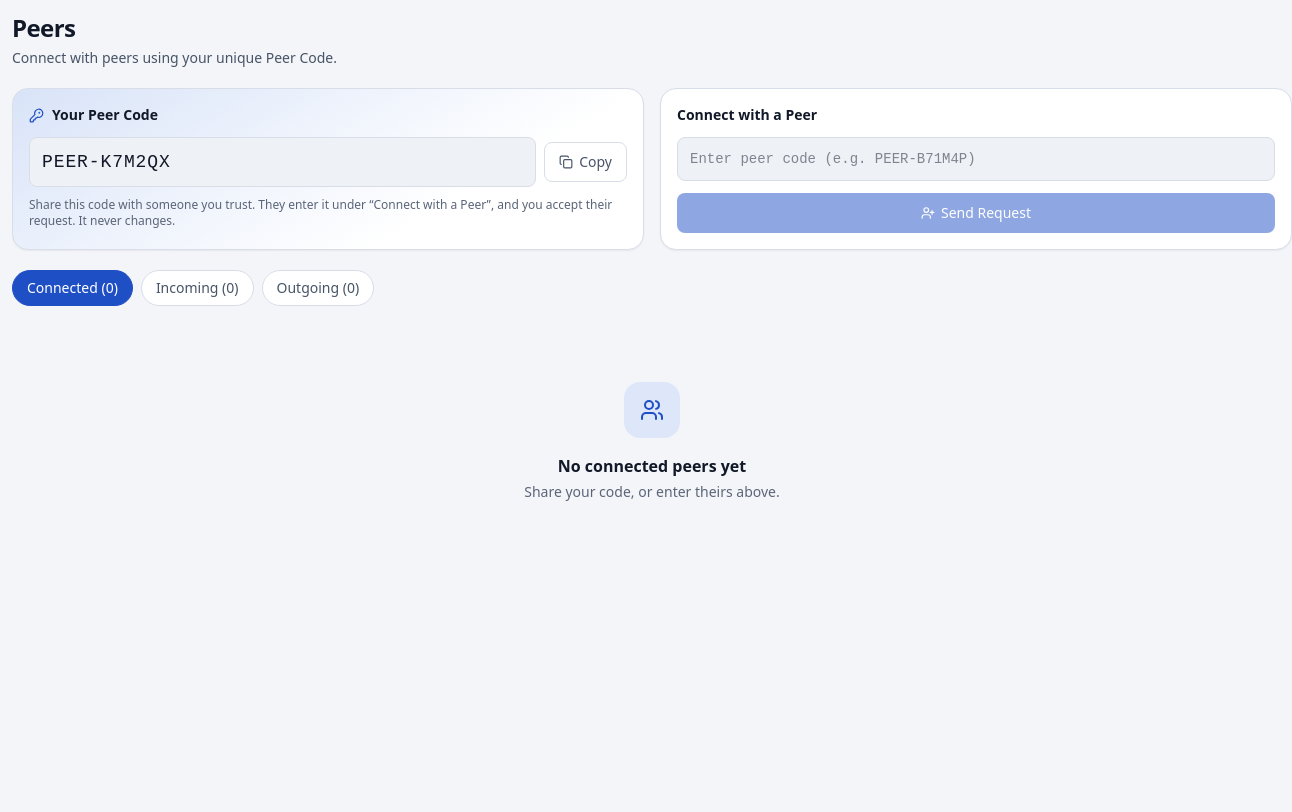
it: PeersPanel › shows the server error when the code is rejected
Expected: the text "PEER-K7M2QX" is shown, [29,137,536,187]
Type "nope" into the field labelled "Connect with a Peer". click: (976, 159)
box: [677,137,1275,181]
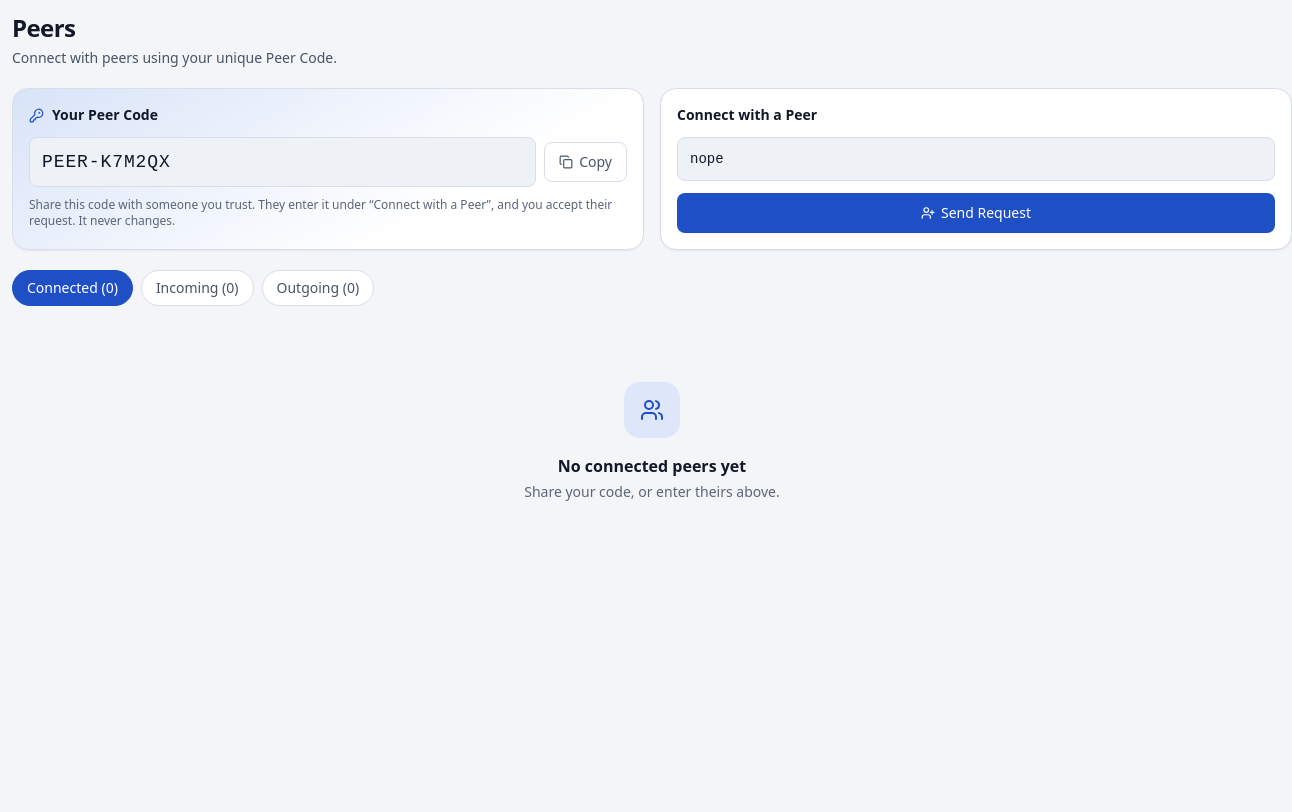
Click the button "Send Request". click: (976, 213)
box: [677,193,1275,233]
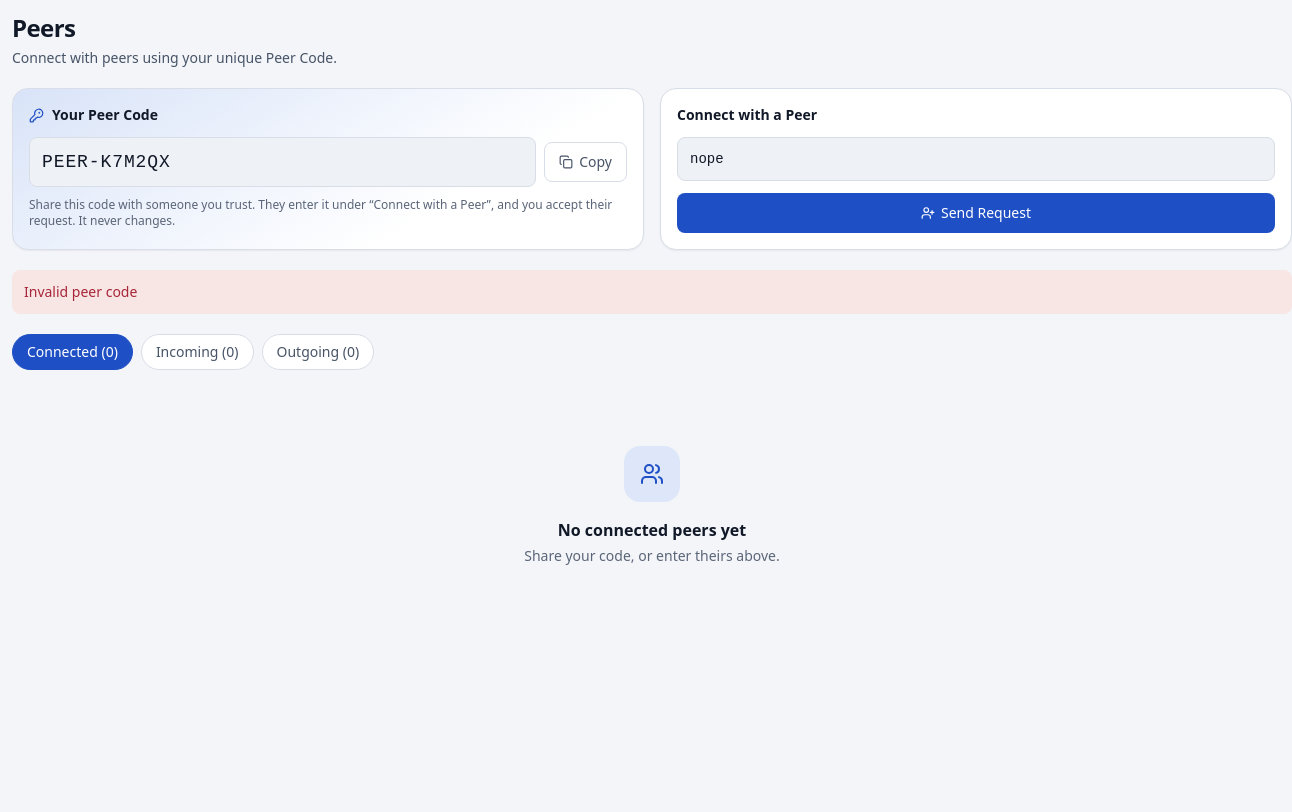
Expected: the message reads "Invalid peer code", [24,282,137,301]
